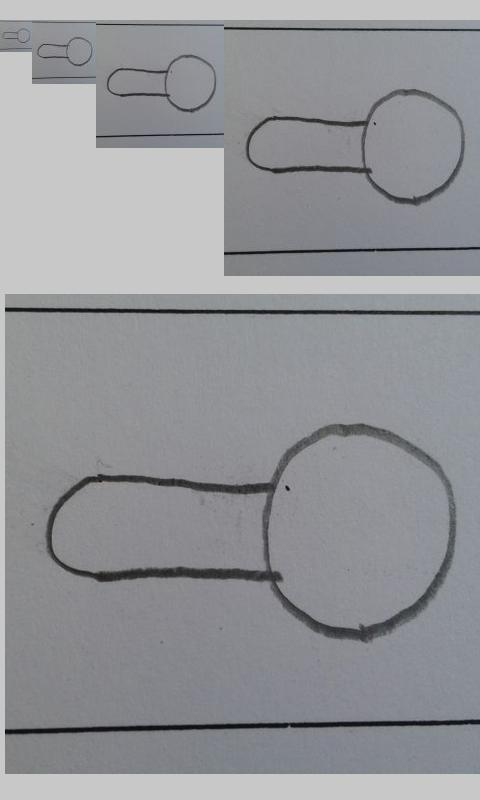switch: (44, 422, 459, 643), (245, 88, 466, 206), (106, 54, 218, 113), (37, 37, 93, 66), (2, 27, 31, 43)
